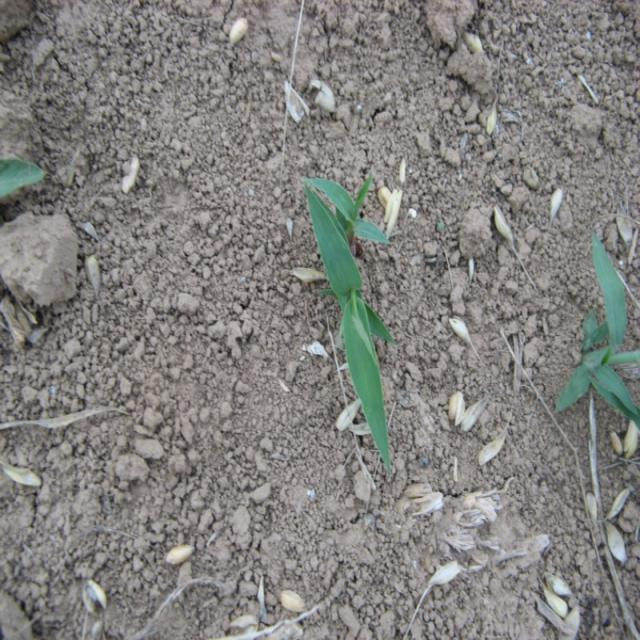bg: (302, 170, 414, 476)
